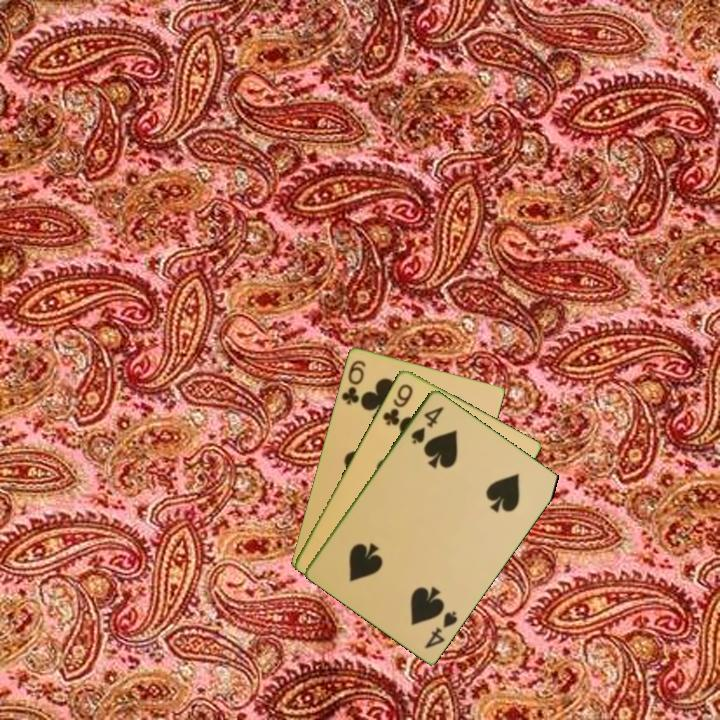4s: (407, 403, 446, 447), (421, 607, 460, 651)
6c: (338, 356, 369, 407)
9c: (379, 380, 416, 428)
